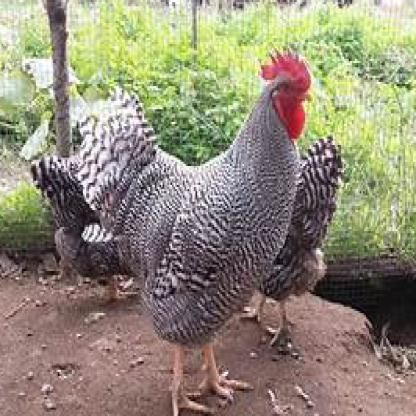chicken: (73, 46, 313, 414)
